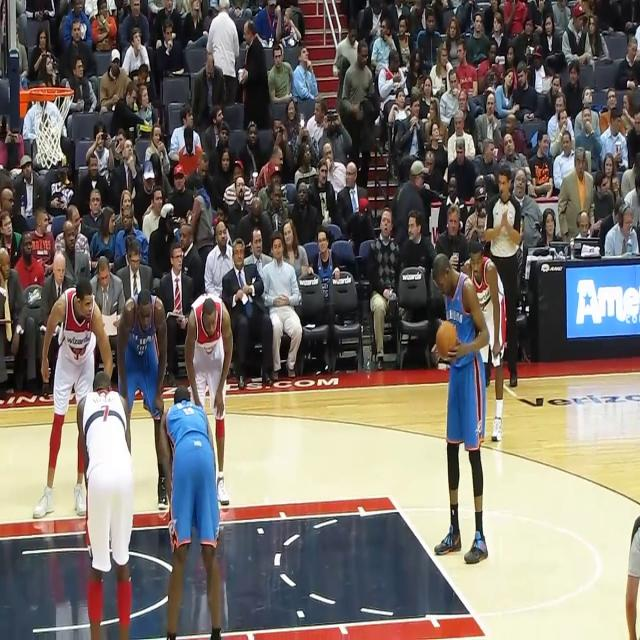ball: (434, 321, 458, 361)
